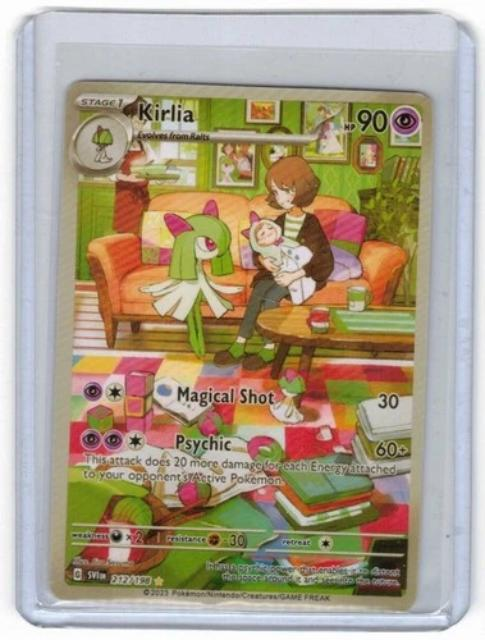Card: (47, 76, 439, 609)
Name: (131, 95, 196, 125)
